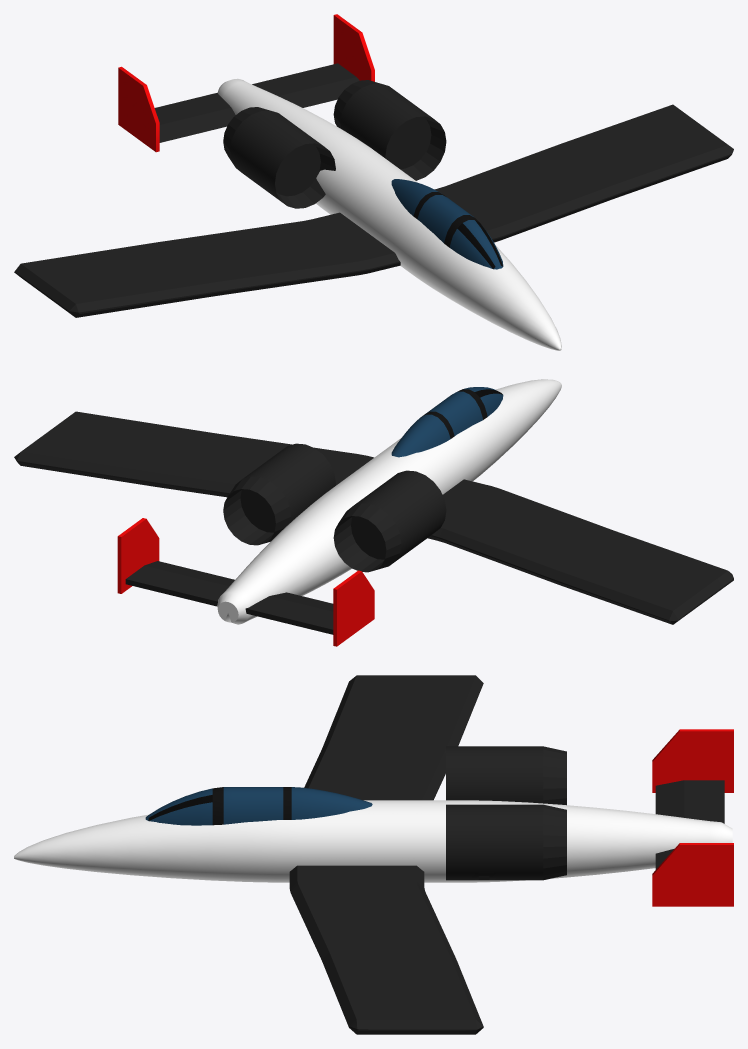
Rendered from fighter.obj.
The picture shows the model from 3 angles, top to bottom: view 1: azimuth 30°, elevation 25°; view 2: azimuth 150°, elevation 25°; view 3: azimuth 270°, elevation 25°; orthographic projection. The views are drawn at different scales.
Parts seen in each view (by area): view 1: group1 pCube1, pCylinder1 group1, group1 pCylinder3, group1 pCylinder2, group1 pPlane1, group1 pCylinder4, group1 pPlane3, group1 pPlane2; view 2: group1 pCube1, pCylinder1 group1, group1 pCylinder3, group1 pCylinder2, group1 pPlane1, group1 pCylinder4, group1 pPlane3, group1 pPlane2; view 3: group1 pCube1, pCylinder1 group1, group1 pCylinder2, group1 pCylinder3, group1 pCylinder4, group1 pPlane2, group1 pPlane3, group1 pPlane1.
Boxes of the visible parts, x1,y1,x2,y2 form: group1 pCube1: [14, 104, 733, 317]; pCylinder1 group1: [218, 78, 561, 350]; group1 pCylinder3: [223, 107, 335, 208]; group1 pCylinder2: [333, 80, 446, 180]; group1 pPlane1: [154, 63, 359, 142]; group1 pCylinder4: [391, 179, 503, 269]; group1 pPlane3: [118, 66, 159, 152]; group1 pPlane2: [333, 14, 374, 81]; group1 pCube1: [14, 411, 733, 624]; pCylinder1 group1: [217, 379, 561, 624]; group1 pCylinder3: [333, 470, 446, 572]; group1 pCylinder2: [223, 443, 335, 545]; group1 pPlane1: [125, 561, 333, 634]; group1 pCylinder4: [391, 387, 503, 457]; group1 pPlane3: [333, 570, 374, 646]; group1 pPlane2: [117, 518, 159, 593]; group1 pCube1: [289, 675, 483, 1034]; pCylinder1 group1: [14, 800, 732, 882]; group1 pCylinder2: [446, 804, 566, 880]; group1 pCylinder3: [446, 746, 566, 805]; group1 pCylinder4: [145, 787, 372, 825]; group1 pPlane2: [652, 843, 733, 906]; group1 pPlane3: [652, 729, 733, 792]; group1 pPlane1: [655, 780, 724, 869].
Size of the model in its own units: 14.34 by 1.87 by 12.45.
